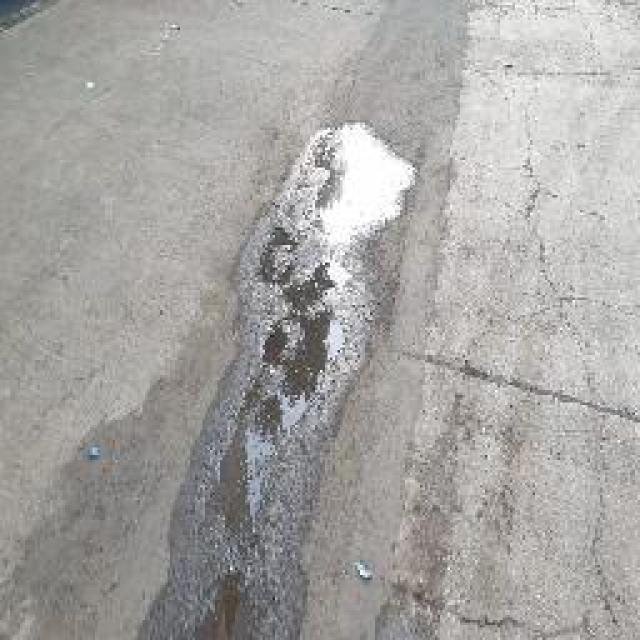puddle: (205, 262, 359, 544), (306, 126, 413, 252)
